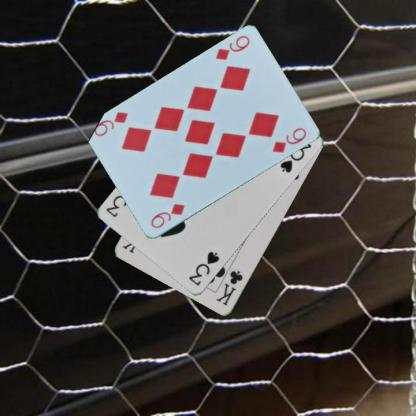3s: (186, 249, 221, 288)
9d: (148, 201, 187, 231), (213, 33, 251, 62)
Kc: (214, 268, 245, 307)
